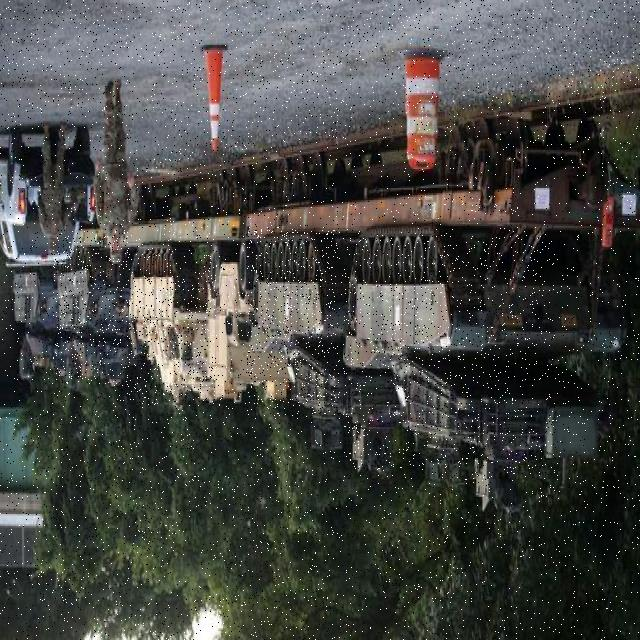MIL_MBT: (344, 235, 555, 479), (246, 230, 339, 416), (115, 254, 217, 404), (53, 229, 129, 383)
